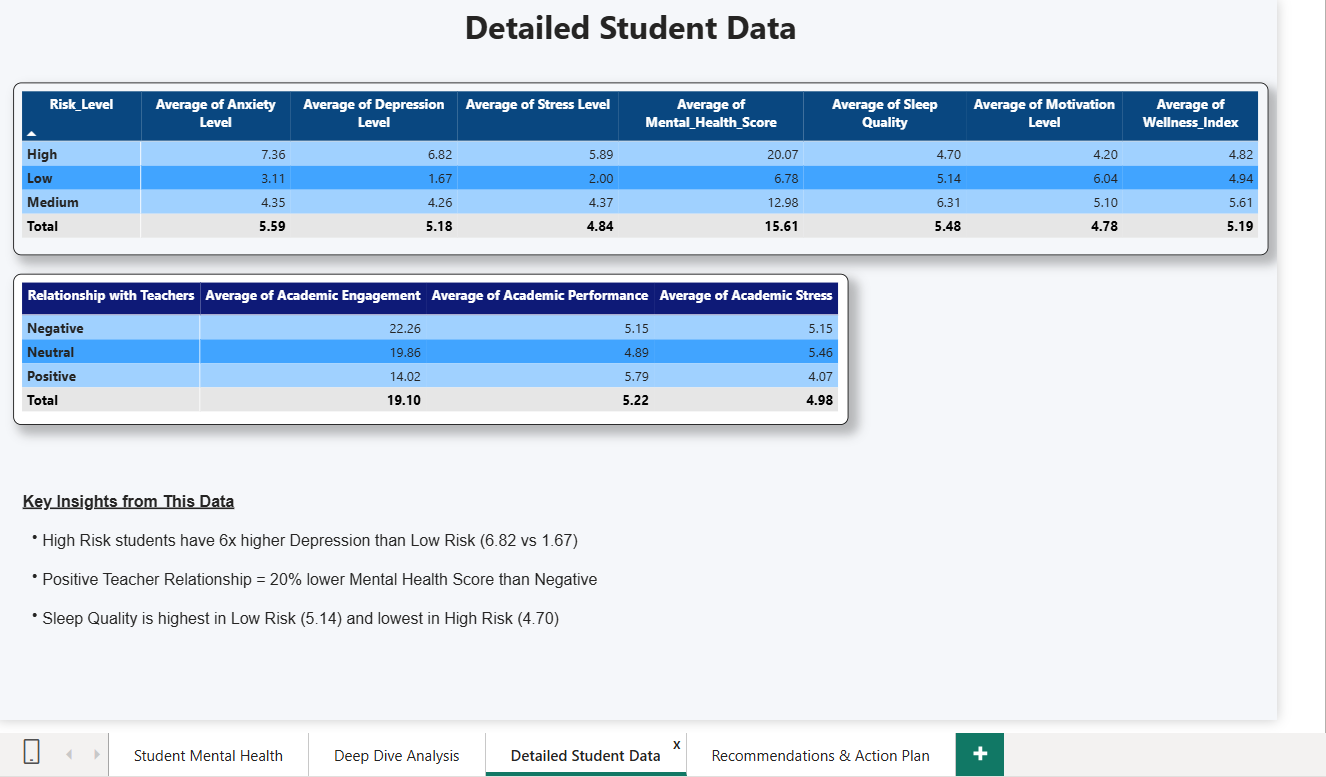

Layout of this report page (visuals, bound fields, positions):
{"tool":"powerbi","page":{"name":"Detailed Student Data","canvas":[1280,720],"ordinal":2},"visuals":[{"type":"textbox","box":[462.5,0,361.2,53.8],"z":0},{"type":"pivotTable","fields":{"Rows":["clean_data.Risk_Level"],"Values":["Avg(clean_data.Anxiety Level)","Avg(clean_data.Depression Level)","Avg(clean_data.Stress Level)","Avg(clean_data.Mental_Health_Score)","Avg(clean_data.Sleep Quality)","Avg(clean_data.Motivation Level)","Avg(clean_data.Wellness_Index)"]},"box":[16.2,82.5,1255,172.5],"z":1000},{"type":"pivotTable","fields":{"Rows":["clean_data.Relationship with Teachers"],"Values":["Avg(clean_data.Academic Engagement)","Avg(clean_data.Academic Performance)","Avg(clean_data.Academic Stress)"]},"box":[16.2,273.8,835,151.2],"z":2000},{"type":"textbox","box":[16.2,487.5,638.8,146.2],"z":3000}]}

Visuals, with their boxes in screenshot pixels (x1, y1, x2, y2):
textbox: detection(456, 7, 812, 60)
pivotTable - clean_data.Risk_Level x Avg(clean_data.Anxiety Level): detection(16, 88, 1253, 258)
pivotTable - clean_data.Relationship with Teachers x Avg(clean_data.Academic Engagement): detection(16, 277, 839, 426)
textbox: detection(16, 487, 645, 631)
